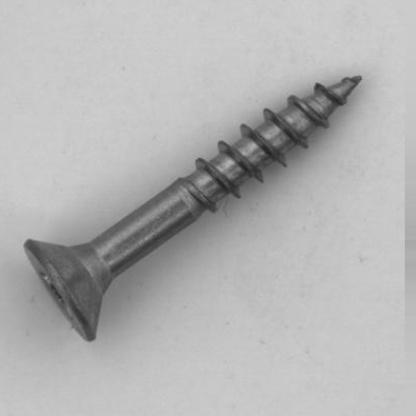metal: (22, 73, 362, 341)
